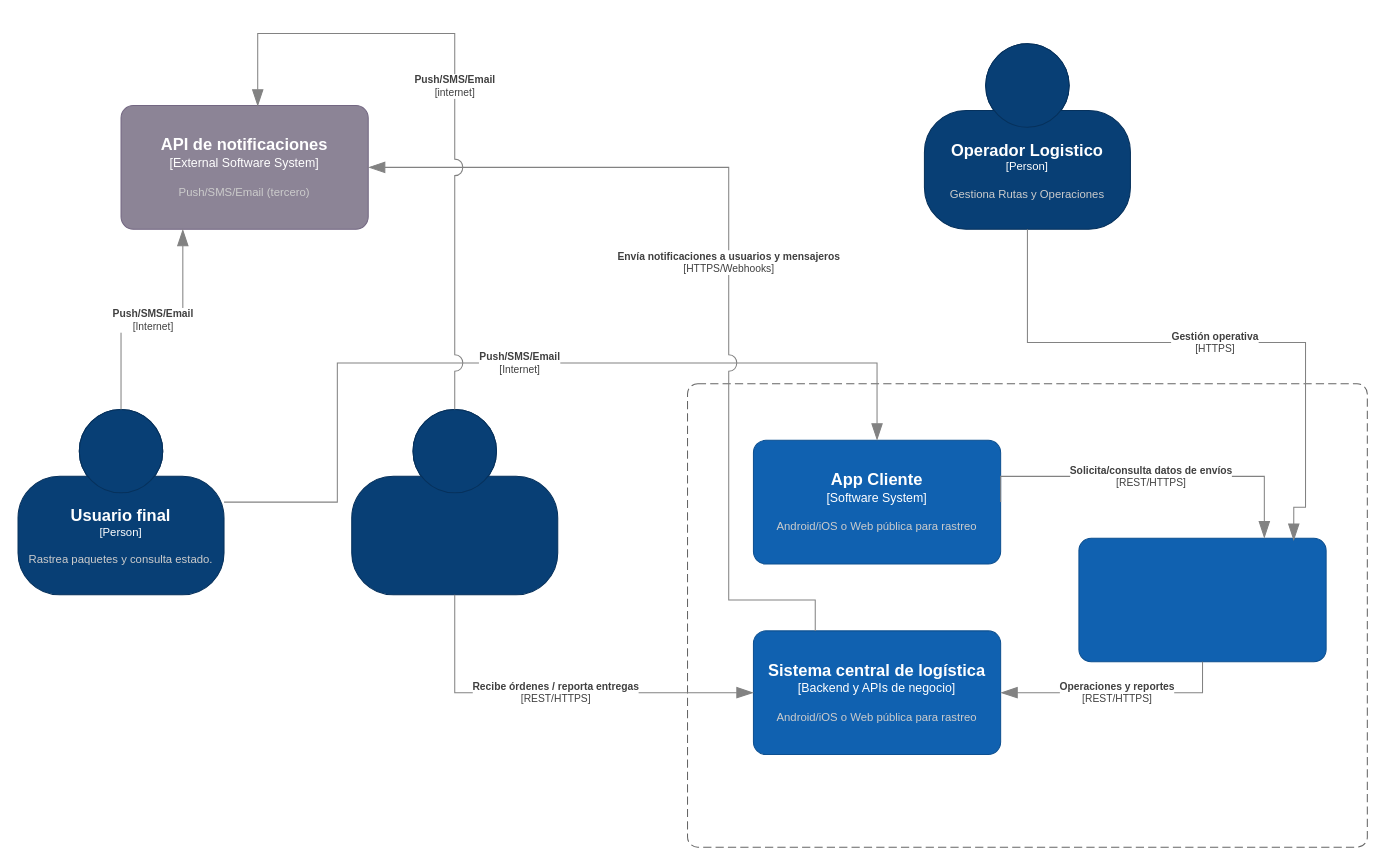
Image size: 1385x865. Some labels were removed from this diagram. The box of each missing label's shape, as (x1, y1, x2, y2) in pixels:
Mensajero [Person] Recibe rutas, reporta estado de entregas.: (351, 408, 558, 595)
Plataforma RedExpress [System]: (686, 383, 1367, 847)
Web para operadores [Software System] Dashboard corporativo: (1078, 537, 1326, 662)
